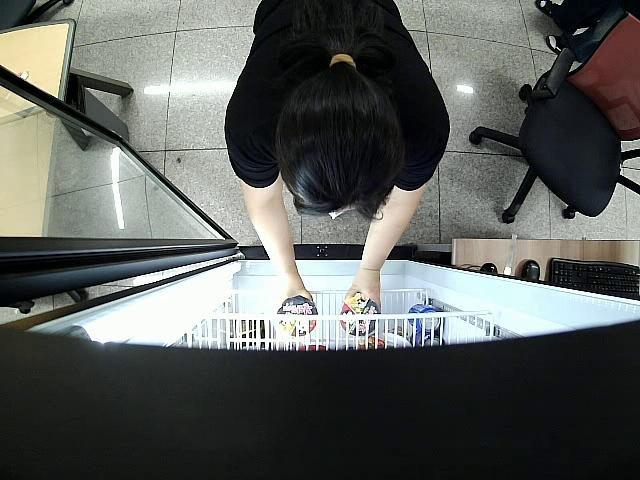08_buldak_S: (340, 296, 380, 334), (278, 298, 318, 334)
